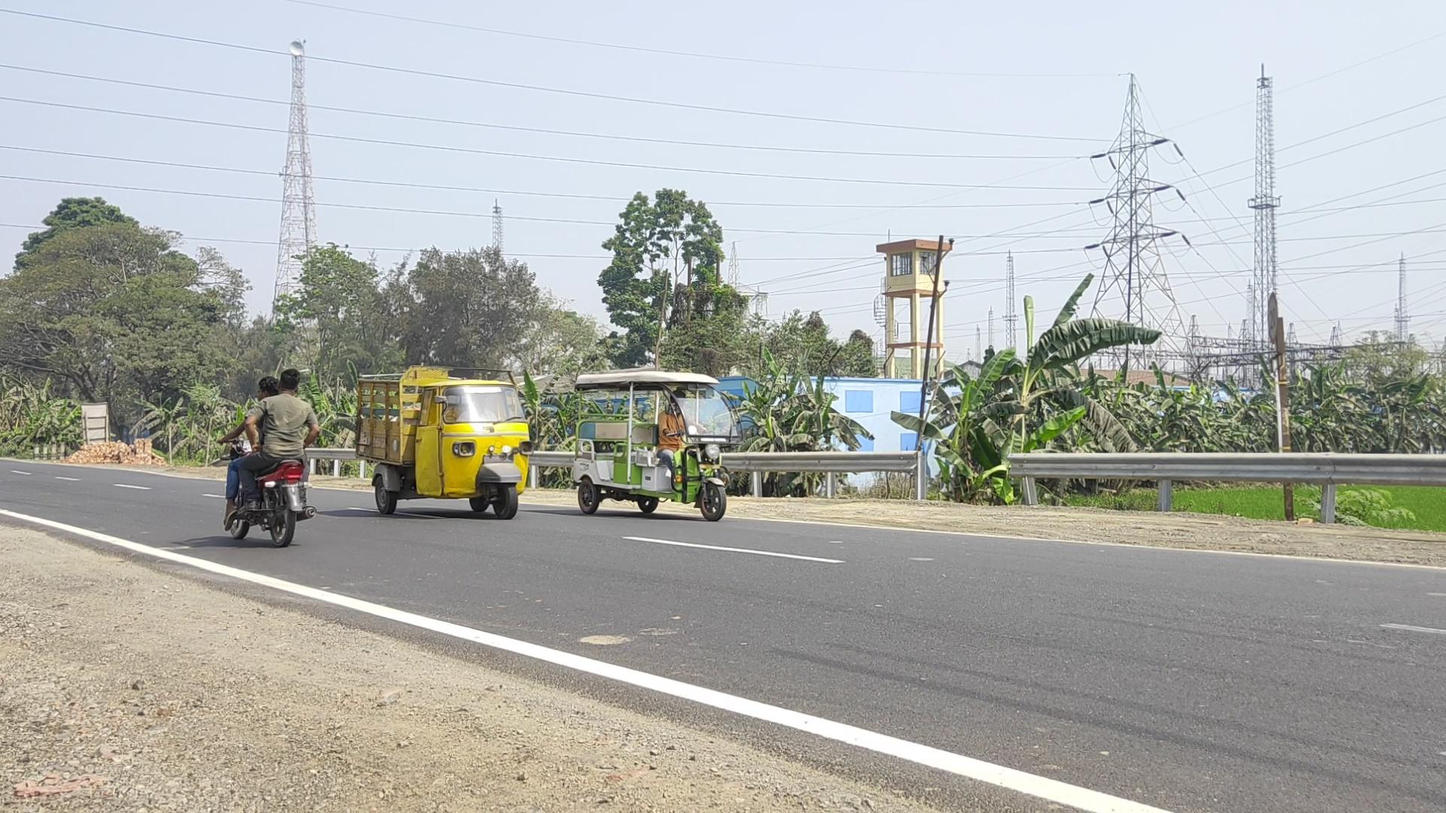Auto: (572, 371, 743, 522)
bike: (217, 368, 317, 547)
van: (354, 365, 533, 519)
